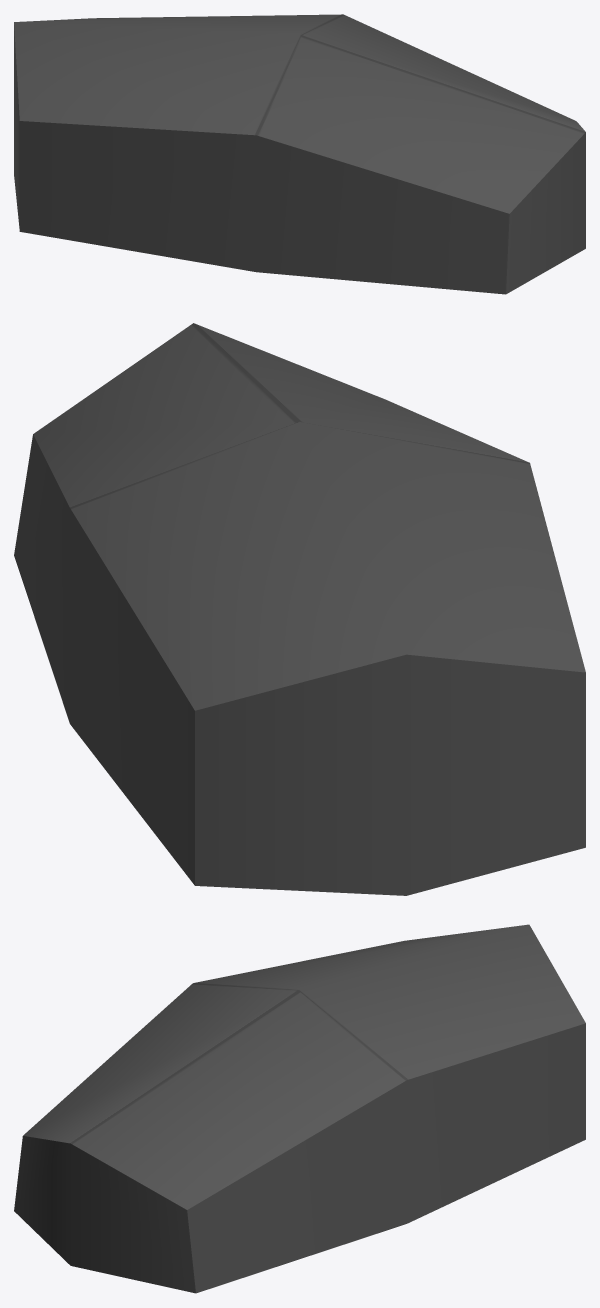
File: MouseTextured_v1.fbx
The picture shows the model from 3 angles, top to bottom: view 1: azimuth 30°, elevation 25°; view 2: azimuth 150°, elevation 25°; view 3: azimuth 270°, elevation 25°; orthographic projection. The views are drawn at different scales.
Parts seen in each view (by area): view 1: Mouse; view 2: Mouse; view 3: Mouse.
Part boxes in pixels (x1,y1,x2,y2): Mouse: (14, 14, 585, 294); Mouse: (14, 323, 585, 895); Mouse: (14, 924, 585, 1293).
Size of the model in its own units: 0.4453 by 0.1723 by 0.4557.
